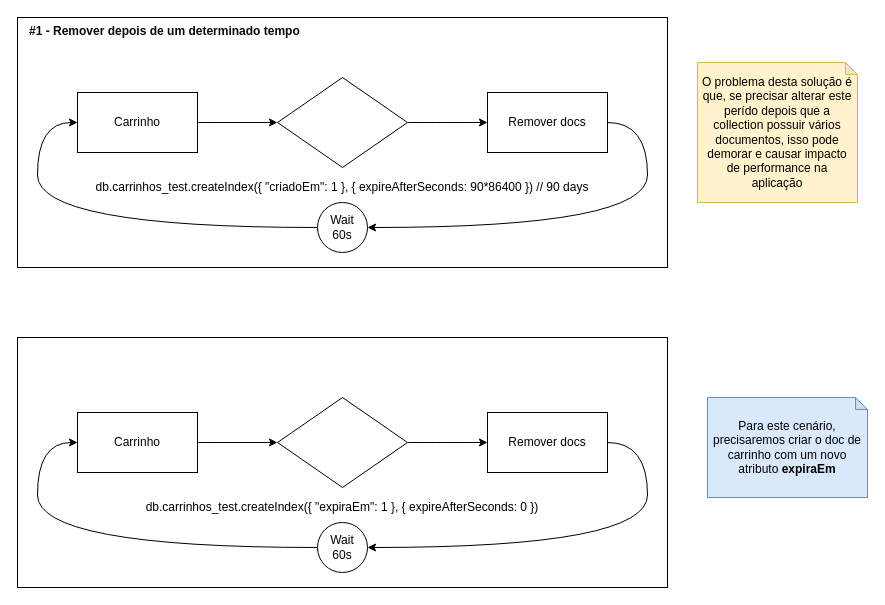
This 885x605 diagram has some shape labels left out. The shapes that lost their labels are listed below. From the top down, each one's box as (x1, y1, x2, y2) in pixels, then its label:
(276, 76, 408, 168): criadoEm > 3 meses ?
(276, 396, 408, 488): expiraEm === hoje ?
(16, 336, 668, 588): #2 - Especificar uma data de expiração
